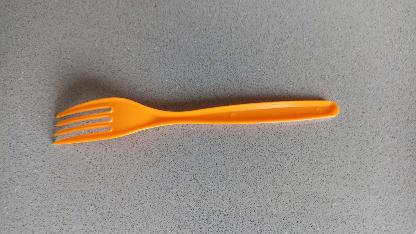Others: (50, 96, 340, 148)
